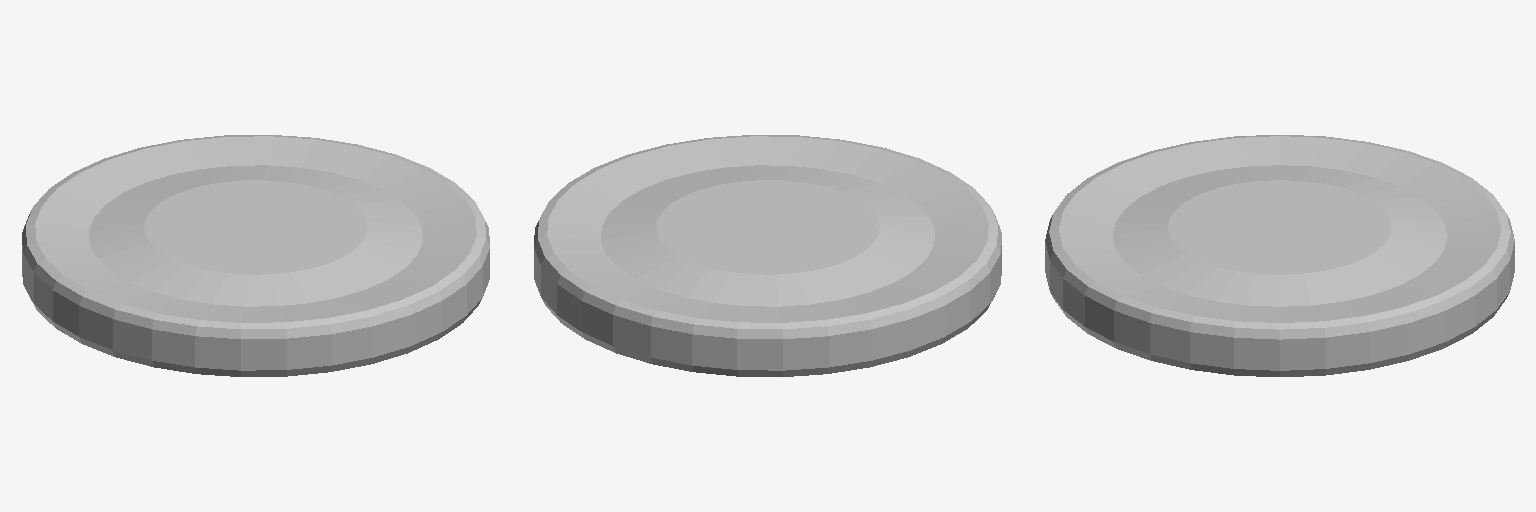
File: puck.obj
3 views of the same model, side by side, from view 1: azimuth 30°, elevation 25°; view 2: azimuth 150°, elevation 25°; view 3: azimuth 270°, elevation 25° (orthographic).
Visible parts, largest first — view 1: Disc; view 2: Disc; view 3: Disc.
Part boxes in pixels (x1,y1,x2,y2): Disc: (22,135,489,376); Disc: (534,135,1001,376); Disc: (1045,135,1514,376).
Bounding box in the file's own units: 0.0578 × 0.0078 × 0.0578.